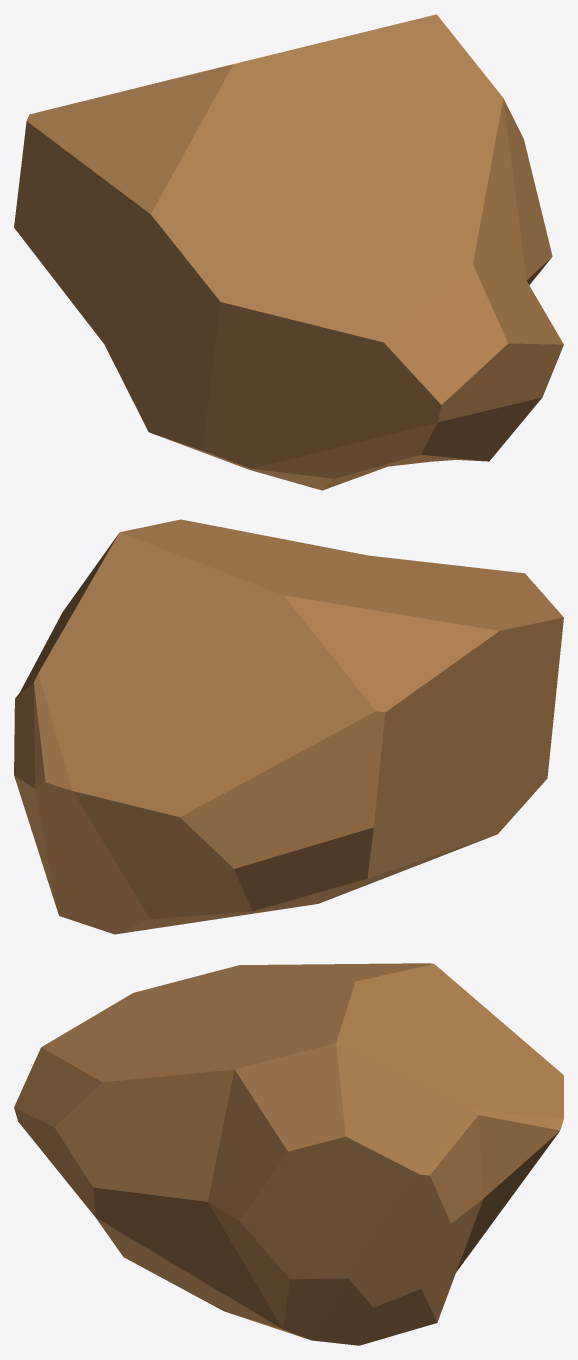
Rendered from Rocher_2.fbx.
3 views of the same model, one above another, from view 1: azimuth 30°, elevation 25°; view 2: azimuth 150°, elevation 25°; view 3: azimuth 270°, elevation 25° (orthographic). The views are drawn at different scales.
Parts seen in each view (by area): view 1: Cube.003; view 2: Cube.003; view 3: Cube.003.
Part boxes in pixels (bbox=[...]): Cube.003: bbox=[14, 14, 563, 490]; Cube.003: bbox=[14, 519, 563, 934]; Cube.003: bbox=[14, 963, 563, 1345].
Bounding box in the file's own units: 209 × 196 × 323.
